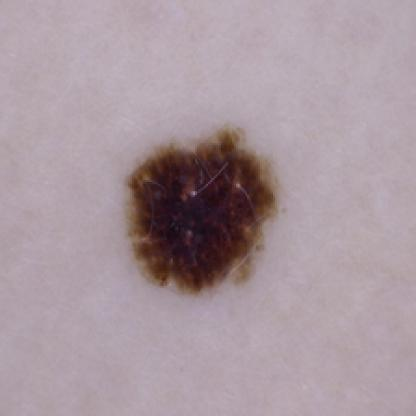benign: (117, 132, 282, 295)
